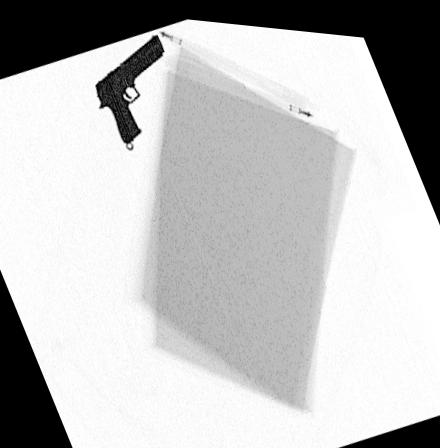Gun: (94, 30, 165, 140)
